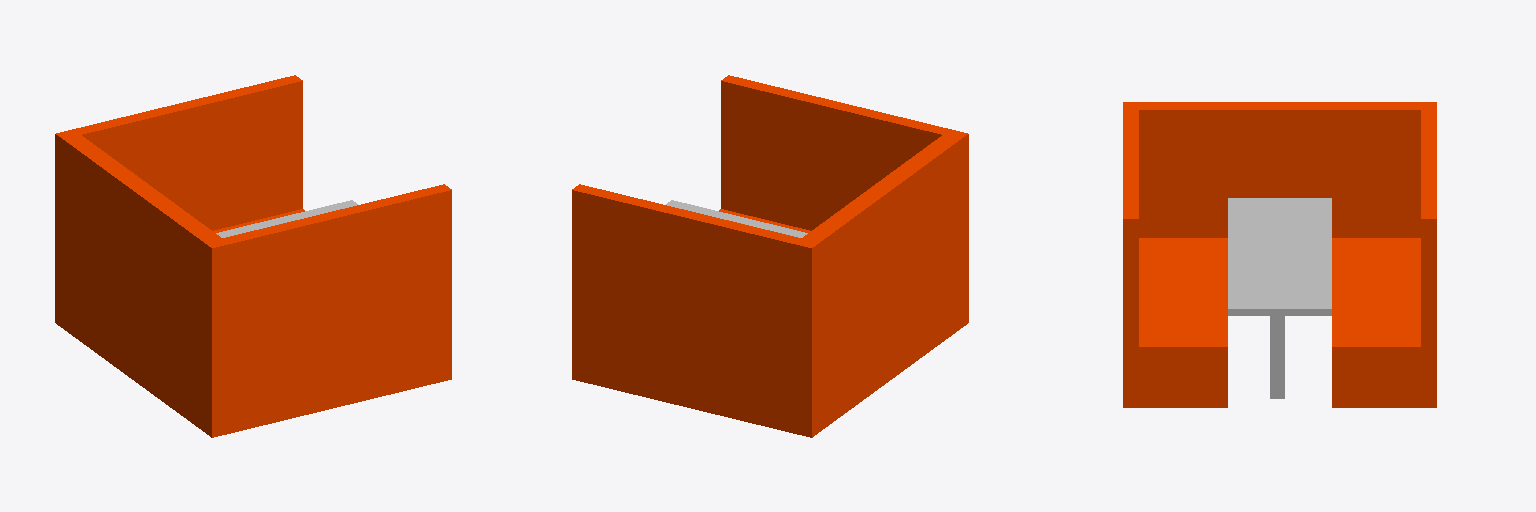
Rendered from werkplekOrange.obj.
3 renders of one model, left to right at view 1: azimuth 30°, elevation 25°; view 2: azimuth 150°, elevation 25°; view 3: azimuth 270°, elevation 25°, orthographic.
Parts seen in each view (by area): view 1: Cube; view 2: Cube; view 3: Cube.
Boxes of the visible parts, x1=… form: Cube: x1=55, y1=75, x2=451, y2=437; Cube: x1=572, y1=75, x2=968, y2=437; Cube: x1=1123, y1=102, x2=1436, y2=407.
Bounding box in the file's own units: 5.4 × 4 × 6.